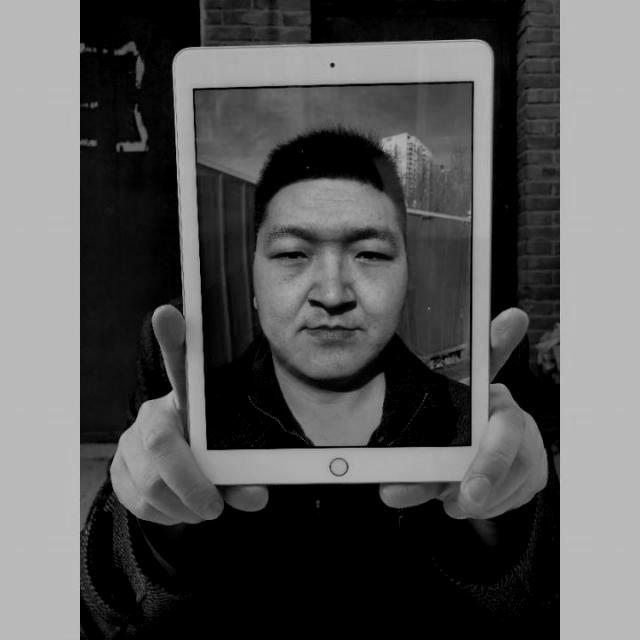fake: (170, 36, 496, 492)
